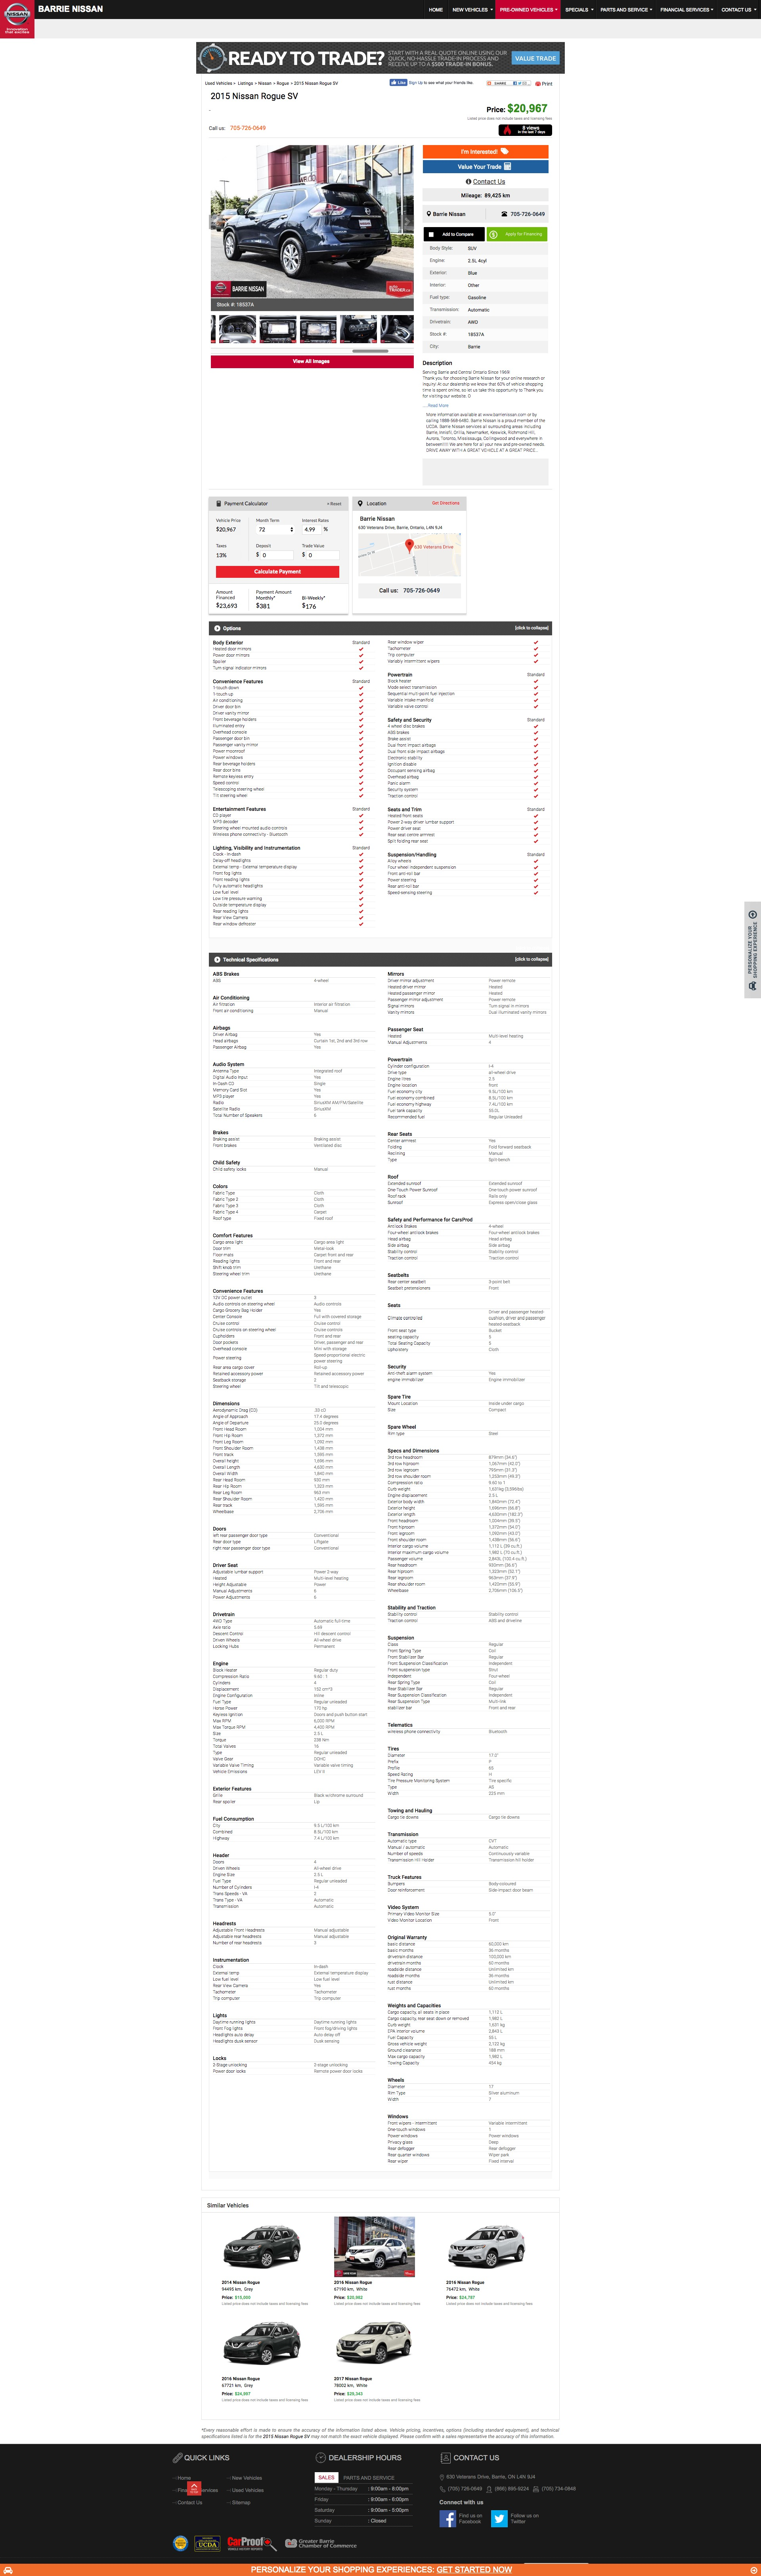car: (399, 215, 416, 230)
